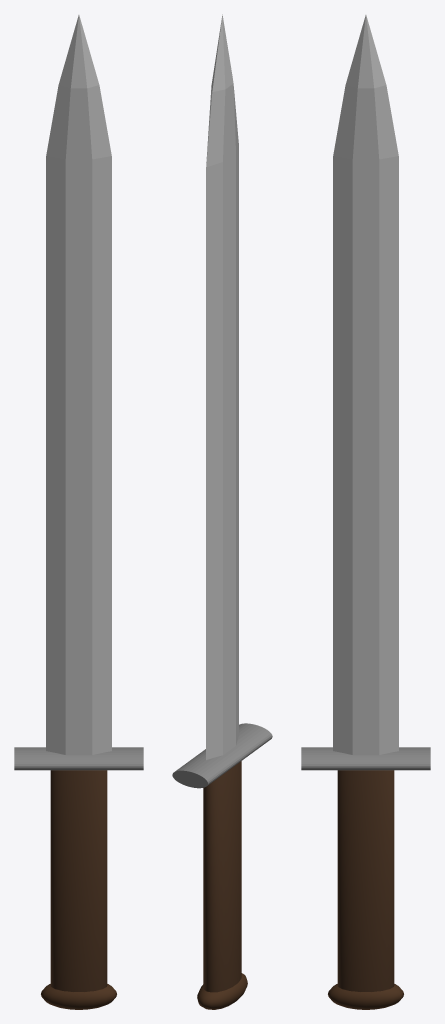
File: basic_sword.fbx
The picture shows the model from 3 angles, left to right: view 1: azimuth 90°, elevation 25°; view 2: azimuth 150°, elevation 25°; view 3: azimuth 270°, elevation 25°; orthographic projection.
Parts seen in each view (by area): view 1: basicsword_blade, basicsword_handle, basicsword_hilt, Sphere; view 2: basicsword_blade, basicsword_handle, basicsword_hilt, Sphere; view 3: basicsword_blade, basicsword_handle, basicsword_hilt, Sphere.
Boxes of the visible parts, left/top/right/bottom form: basicsword_blade: left=46, top=15, right=111, bottom=755; basicsword_handle: left=50, top=770, right=107, bottom=991; basicsword_hilt: left=14, top=747, right=143, bottom=770; Sphere: left=41, top=984, right=116, bottom=1009; basicsword_blade: left=206, top=14, right=238, bottom=759; basicsword_handle: left=203, top=761, right=241, bottom=992; basicsword_hilt: left=172, top=723, right=272, bottom=788; Sphere: left=197, top=973, right=247, bottom=1009; basicsword_blade: left=333, top=15, right=398, bottom=755; basicsword_handle: left=337, top=770, right=394, bottom=991; basicsword_hilt: left=301, top=747, right=430, bottom=770; Sphere: left=328, top=984, right=403, bottom=1009.
Bounding box in the file's own units: 7.74 × 205 × 24.19.
